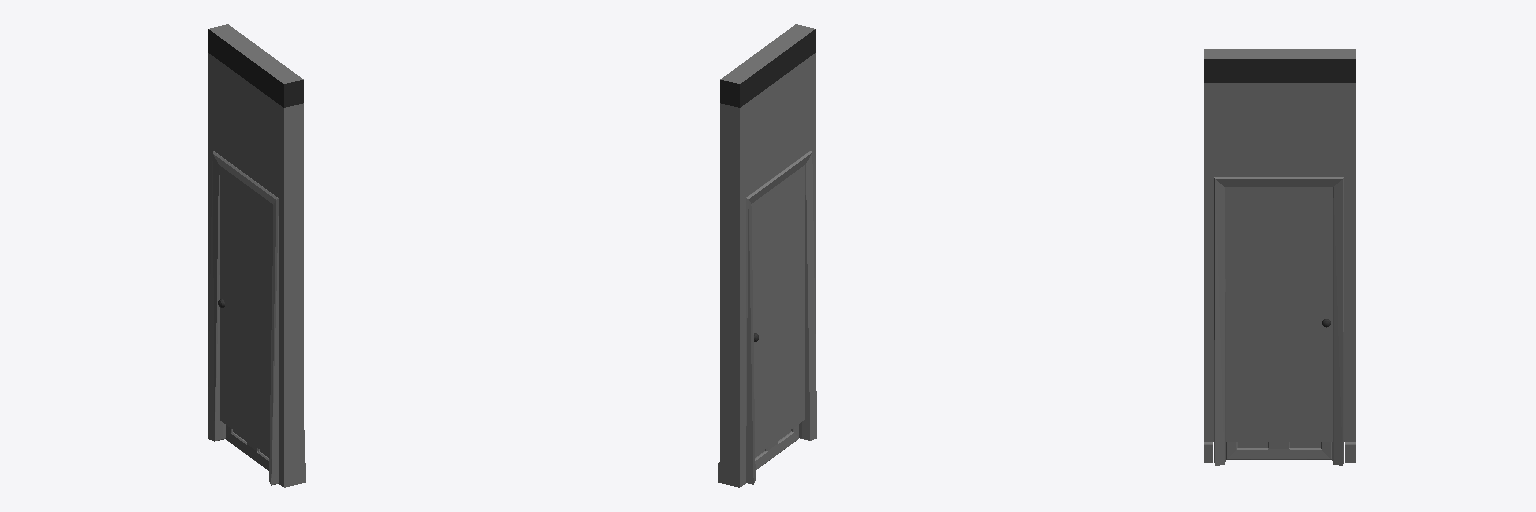
The model's file is Modular_Wall_Door_1m.obj.
3 views of the same model, side by side, from view 1: azimuth 30°, elevation 25°; view 2: azimuth 150°, elevation 25°; view 3: azimuth 270°, elevation 25° (orthographic).
Visible parts, largest first — view 1: pCube1103, pCube952 pCube1103 pCube951, pCube952 pCube1103 pCube959; view 2: pCube1103, pCube952 pCube1103 pCube951, pCube952 pCube1103 pCube959; view 3: pCube1103, pCube952 pCube1103 pCube951, pCube952 pCube1103 pCube959.
Part boxes in pixels (x1,y1,x2,y2): pCube1103: (208,24,305,487); pCube952 pCube1103 pCube951: (208,151,304,485); pCube952 pCube1103 pCube959: (226,425,269,470); pCube1103: (718,24,815,487); pCube952 pCube1103 pCube951: (746,151,816,484); pCube952 pCube1103 pCube959: (755,424,798,469); pCube1103: (1204,49,1355,462); pCube952 pCube1103 pCube951: (1214,177,1343,465); pCube952 pCube1103 pCube959: (1226,442,1331,459).
Bounding box in the file's own units: 25.95 × 294 × 100.